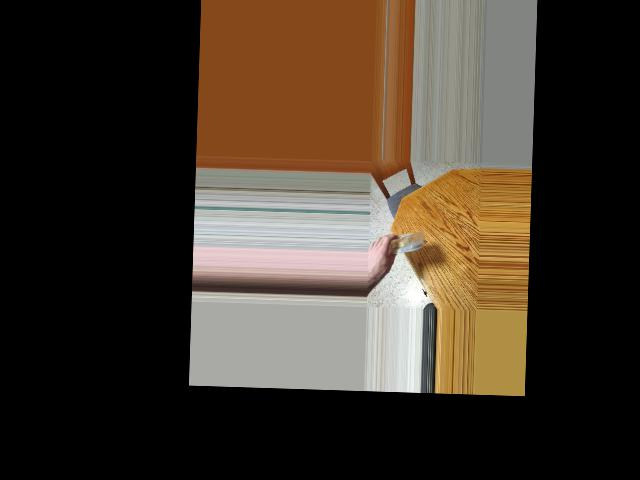cheese: (388, 230, 422, 261)
